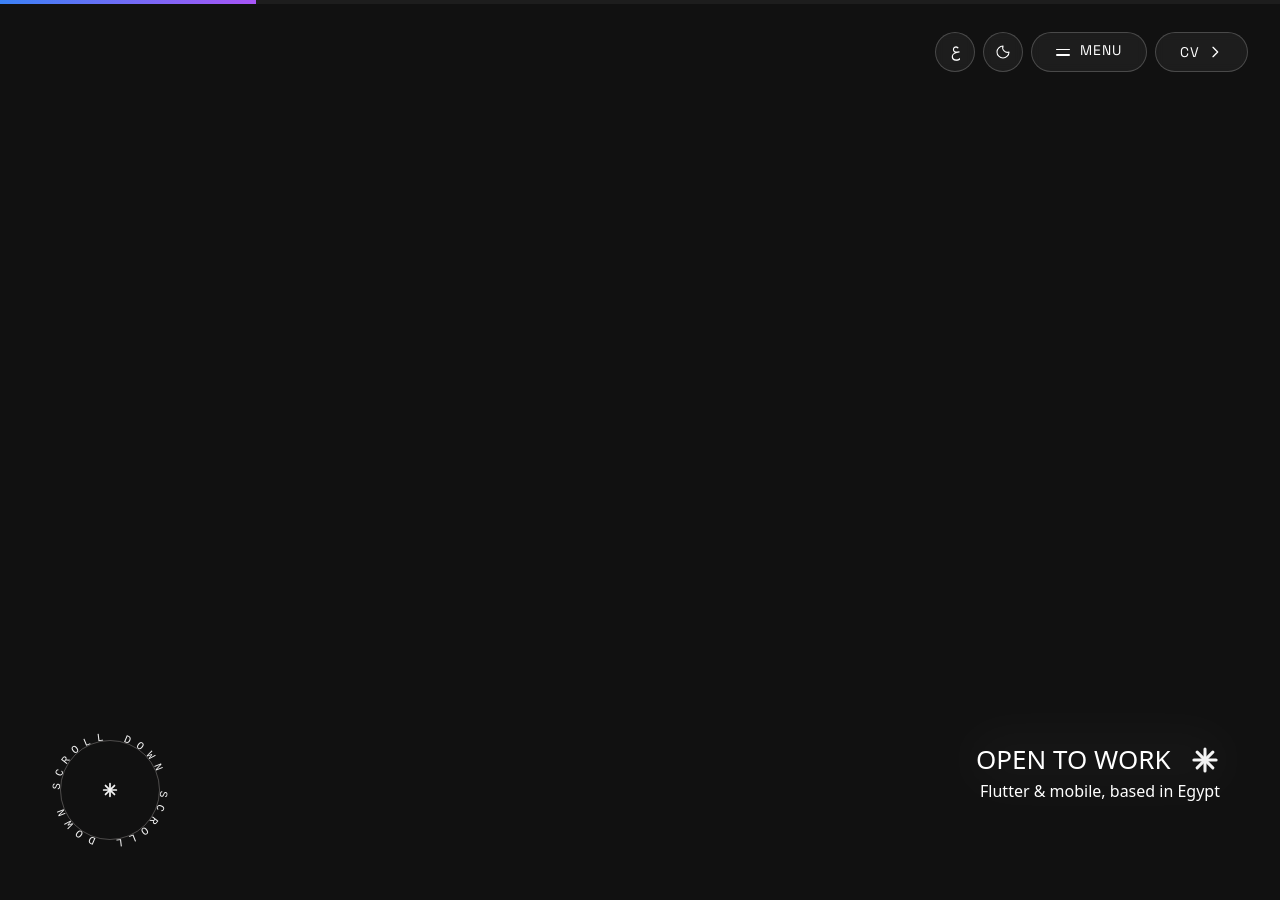
Test: the menu › opens as a dialog, lists the sections, and closes on Escape
Click the button named "Open the menu" at (1089, 52), box [1032,32,1147,72]
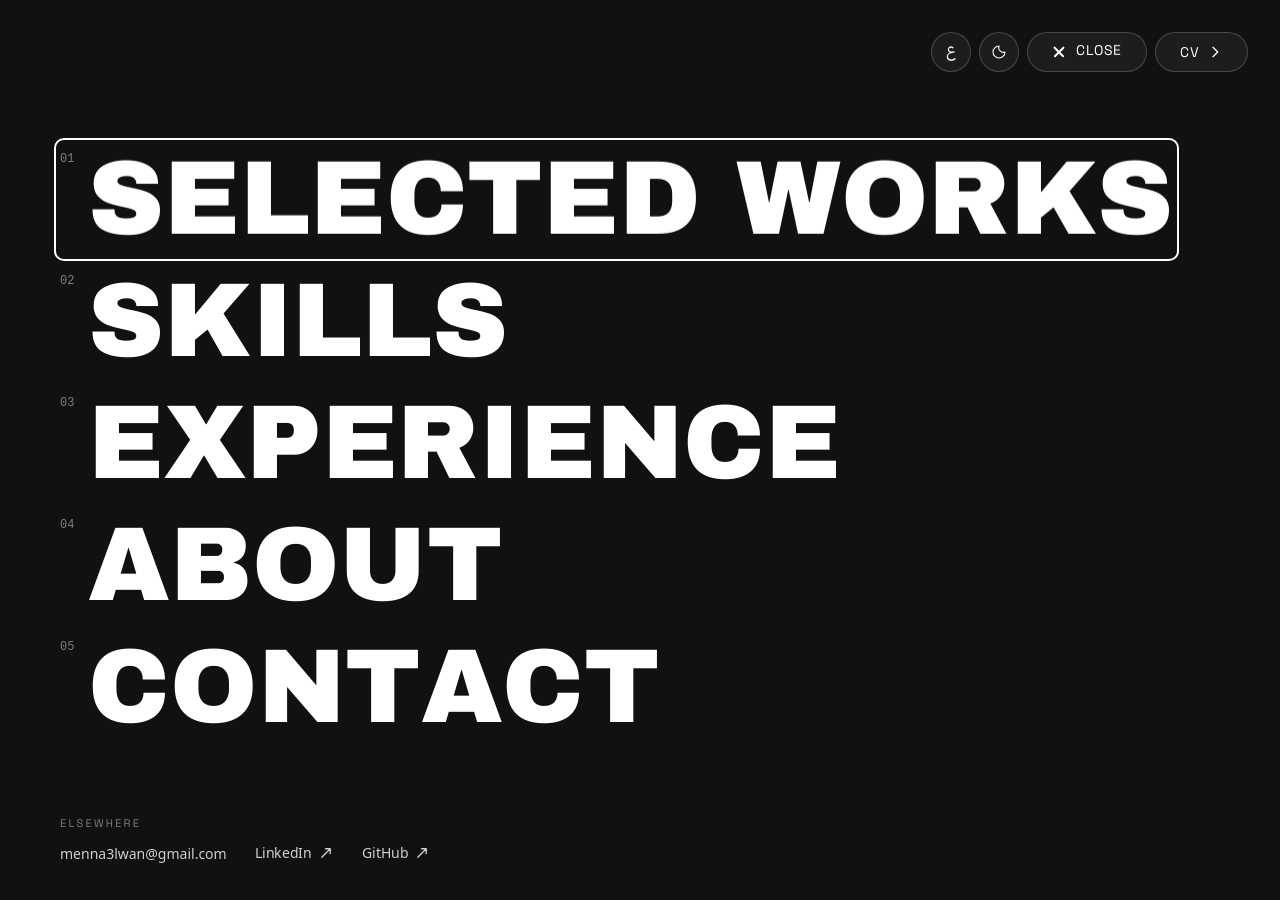
Press Escape
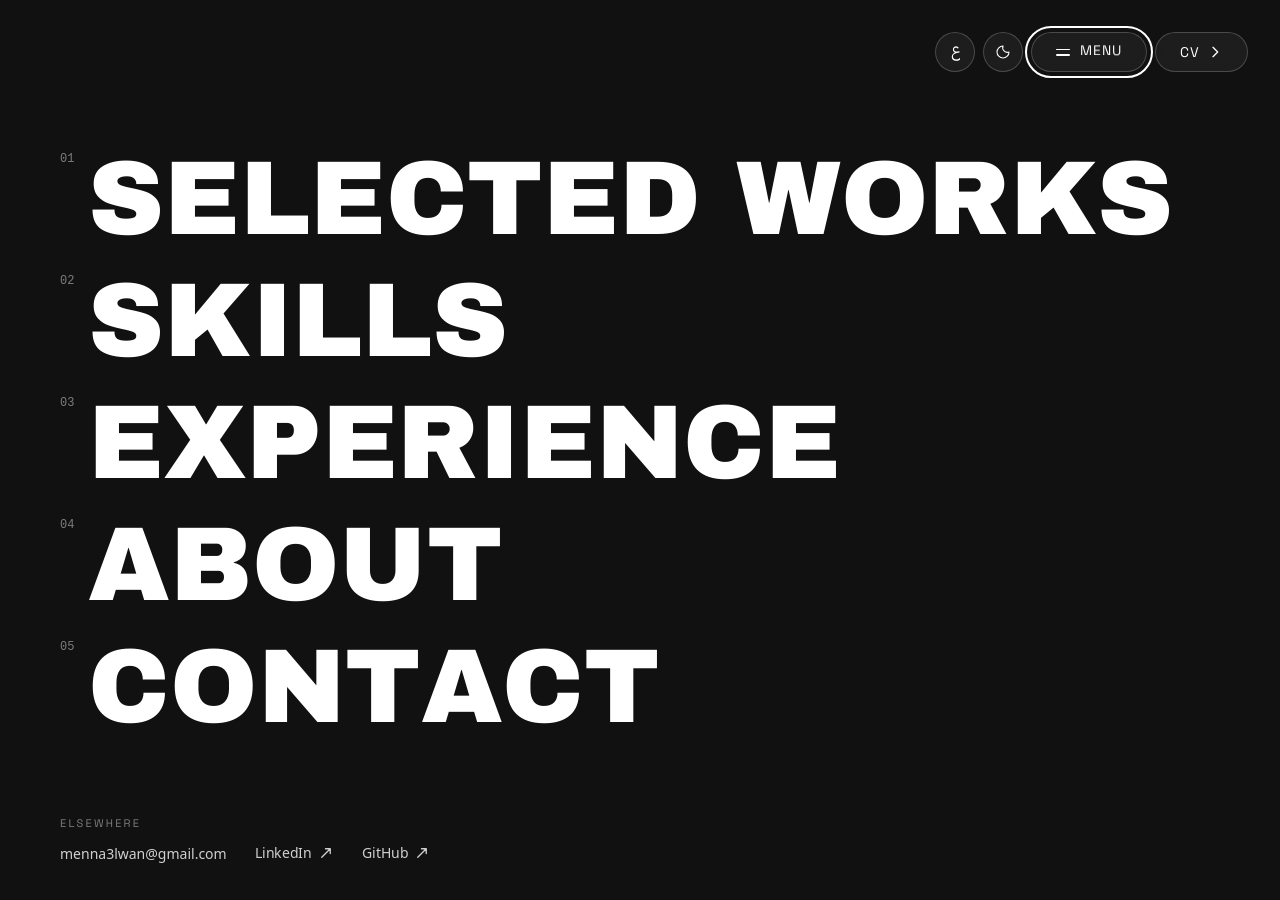
Now the button named "Open the menu" is collapsed, box [1032,32,1147,72]
